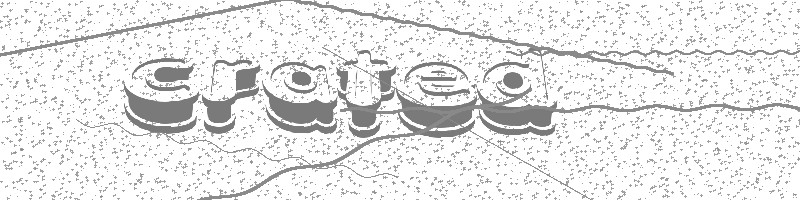a: (260, 58, 339, 137)
c: (118, 54, 201, 134)
d: (478, 46, 558, 139)
e: (395, 60, 477, 139)
r: (202, 54, 261, 134)
t: (336, 48, 395, 138)
